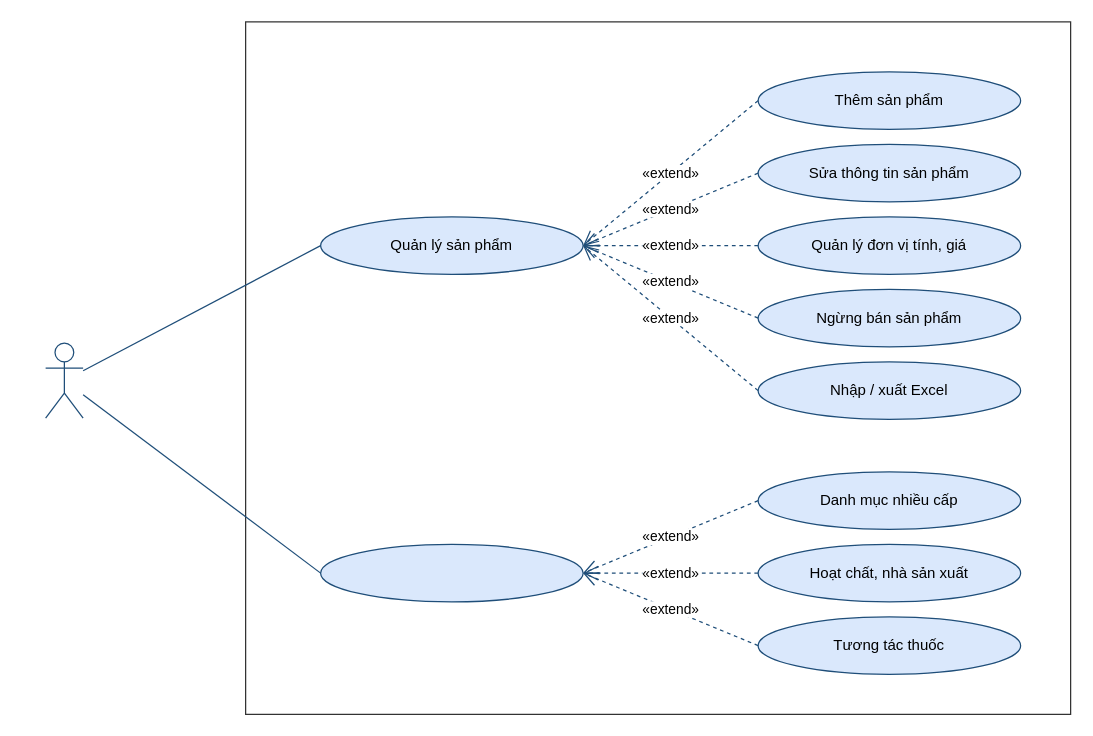
Image size: 1093x736. Some labels were removed from this diagram. Each missing label, with the centre of its shape:
Quản lý danh mục: point (451, 572)
Quản trị viên: point (63, 380)
